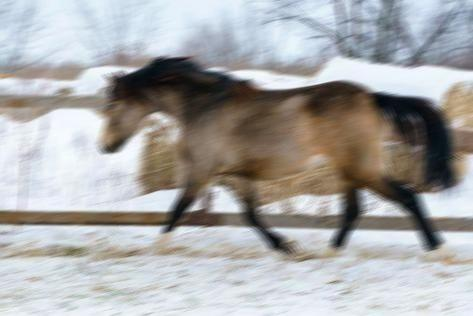horse: (95, 54, 464, 264)
